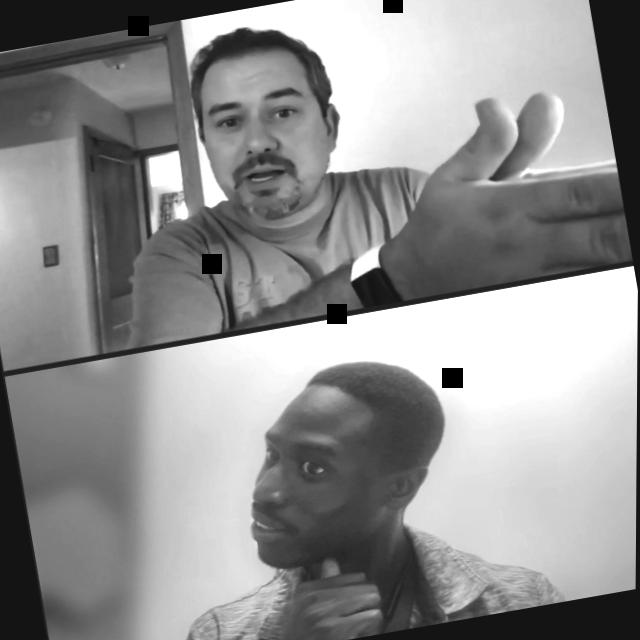NO-Mask: (224, 340, 468, 574), (181, 13, 356, 232)
